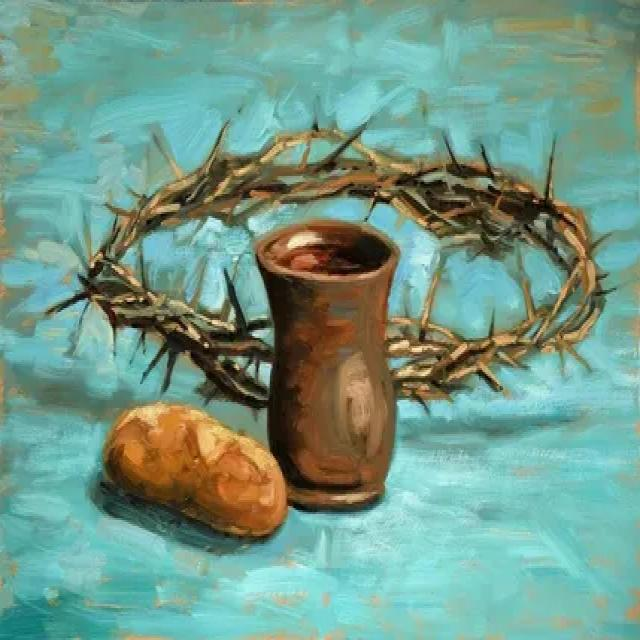crown: (88, 115, 587, 388)
